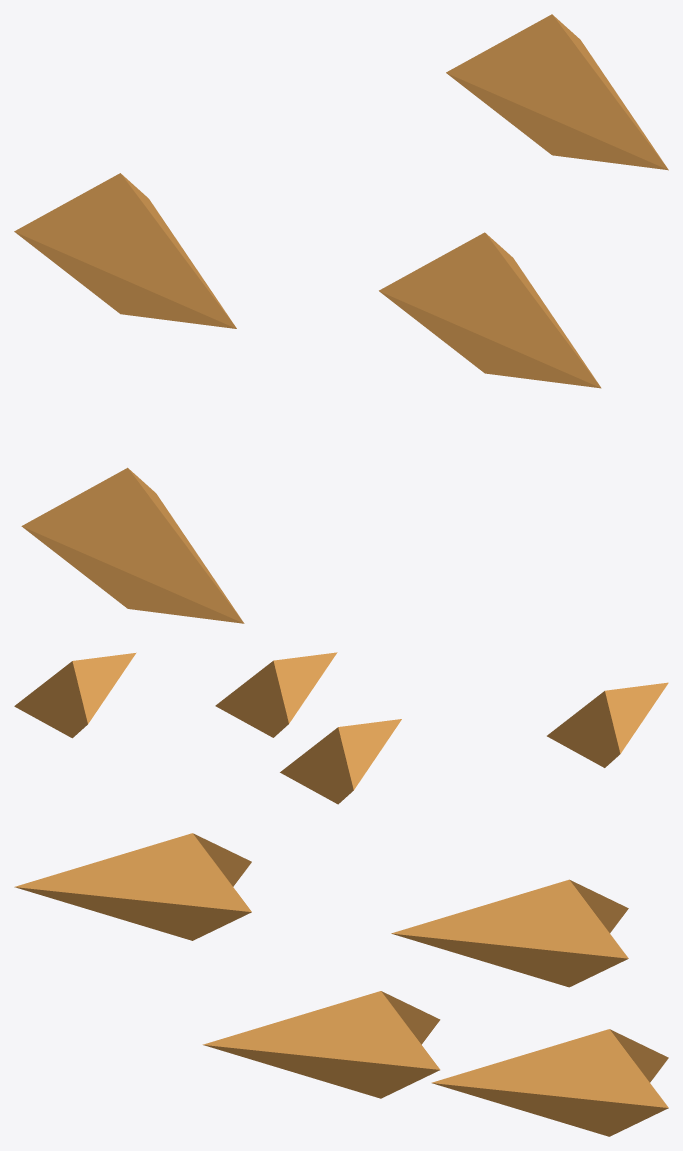
The model's file is BronzeArrowheadStack4.glb.
3 views of the same model, one above another, from view 1: azimuth 30°, elevation 25°; view 2: azimuth 150°, elevation 25°; view 3: azimuth 270°, elevation 25° (orthographic). The views are drawn at different scales.
Visible parts, largest first — view 1: BronzeArrowheadStack4; view 2: BronzeArrowheadStack4; view 3: BronzeArrowheadStack4.
Part boxes in pixels (x1,y1,x2,y2): BronzeArrowheadStack4: [14, 14, 668, 623]; BronzeArrowheadStack4: [14, 652, 668, 804]; BronzeArrowheadStack4: [14, 833, 668, 1136].
Bounding box in the file's own units: 0.3118 × 0.0806 × 0.2782.
